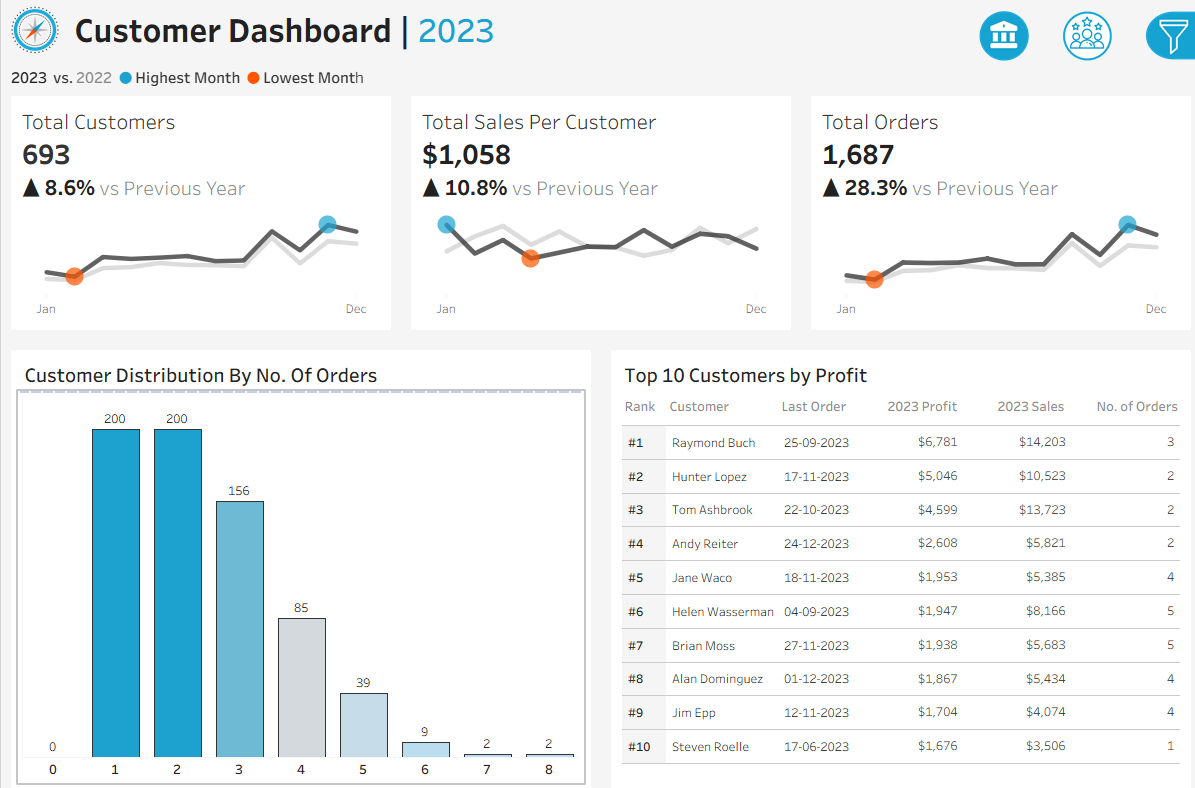

What the dashboard file says about the page in this screenshot:
{"tool":"tableau","page":{"name":"Customer Dashboard","canvas":[1200,800],"ordinal":0},"visuals":[{"type":"image","param":"Image/Icon - Logo.png","box":[0,0,67,59]},{"type":"text","box":[67,0,791,59]},{"type":"dashboard-object","box":[960,6,84,59]},{"type":"dashboard-object","box":[1044,6,84,59]},{"type":"blank","box":[973,13,213,86]},{"type":"worksheet","title":"Legends KPIs","mark":"Automatic","box":[0,59,1200,37]},{"type":"worksheet","title":"KPI Customers","mark":"Automatic","rows":["Calculation_0736740506165258"],"cols":["Order Date"],"box":[0,96,400,244]},{"type":"worksheet","title":"KPI Sales/Customer","mark":"Automatic","rows":["Calculation_0736740517900302"],"cols":["Order Date"],"box":[400,96,400,244]},{"type":"worksheet","title":"KPI Orders","mark":"Automatic","rows":["Calculation_0736740545048596"],"cols":["Order Date"],"box":[800,96,400,244]},{"type":"text","box":[973,99,213,44]},{"type":"parameter","param":"[Parameters].[Parameter 1]","box":[973,143,213,53]},{"type":"blank","box":[973,196,213,32]},{"type":"text","box":[973,228,213,29]},{"type":"filter","title":"KPI Customers","param":"[federated.1e4fxae1wcjxs1162a2g109me07i].[none:Category:nk]","box":[973,257,213,53]},{"type":"filter","title":"KPI Customers","param":"[federated.1e4fxae1wcjxs1162a2g109me07i].[none:Sub-Category:nk]","box":[973,310,213,53]},{"type":"text","box":[17,357,566,34]},{"type":"text","box":[617,357,566,34]},{"type":"text","box":[973,363,213,29]},{"type":"worksheet","title":"Customer Distribution","mark":"Bar","rows":["Calculation_0736740500320260"],"cols":["Calculation_0736740552085527"],"box":[17,391,566,392]},{"type":"text","box":[617,391,45,30]},{"type":"text","box":[662,391,112,30]},{"type":"text","box":[774,391,106,30]},{"type":"text","box":[880,391,110,30]},{"type":"text","box":[990,391,98.5,30]},{"type":"text","box":[1088.5,391,94.5,30]},{"type":"filter","title":"KPI Customers","param":"[federated.1e4fxae1wcjxs1162a2g109me07i].[none:Region:nk]","box":[973,392,213,53]},{"type":"worksheet","title":"Top Customers","mark":"Automatic","rows":["Calculation_0736740562145306","Customer Name","Order Date"],"box":[617,421,566,347]},{"type":"filter","title":"KPI Customers","param":"[federated.1e4fxae1wcjxs1162a2g109me07i].[none:State:nk]","box":[973,445,213,53]},{"type":"filter","title":"KPI Customers","param":"[federated.1e4fxae1wcjxs1162a2g109me07i].[none:City:nk]","box":[973,498,213,53]}]}

Visuals, with their boxes in screenshot pixels (x1, y1, x2, y2), scaled from the page's 1200x800 canvas onto the 1195x788 screenshot:
image: (0,0,67,58)
text: (67,0,854,58)
dashboard-object: (956,6,1040,64)
dashboard-object: (1040,6,1123,64)
blank: (969,13,1181,98)
"Legends KPIs" worksheet: (0,58,1194,95)
"KPI Customers" worksheet: (0,95,398,335)
"KPI Sales/Customer" worksheet: (398,95,797,335)
"KPI Orders" worksheet: (797,95,1194,335)
text: (969,98,1181,141)
parameter: (969,141,1181,193)
blank: (969,193,1181,225)
text: (969,225,1181,253)
"KPI Customers" filter: (969,253,1181,305)
"KPI Customers" filter: (969,305,1181,358)
text: (17,352,581,385)
text: (614,352,1178,385)
text: (969,358,1181,386)
"Customer Distribution" worksheet (Bar marks): (17,385,581,771)
text: (614,385,659,415)
text: (659,385,771,415)
text: (771,385,876,415)
text: (876,385,986,415)
text: (986,385,1084,415)
text: (1084,385,1178,415)
"KPI Customers" filter: (969,386,1181,438)
"Top Customers" worksheet: (614,415,1178,756)
"KPI Customers" filter: (969,438,1181,491)
"KPI Customers" filter: (969,491,1181,543)
